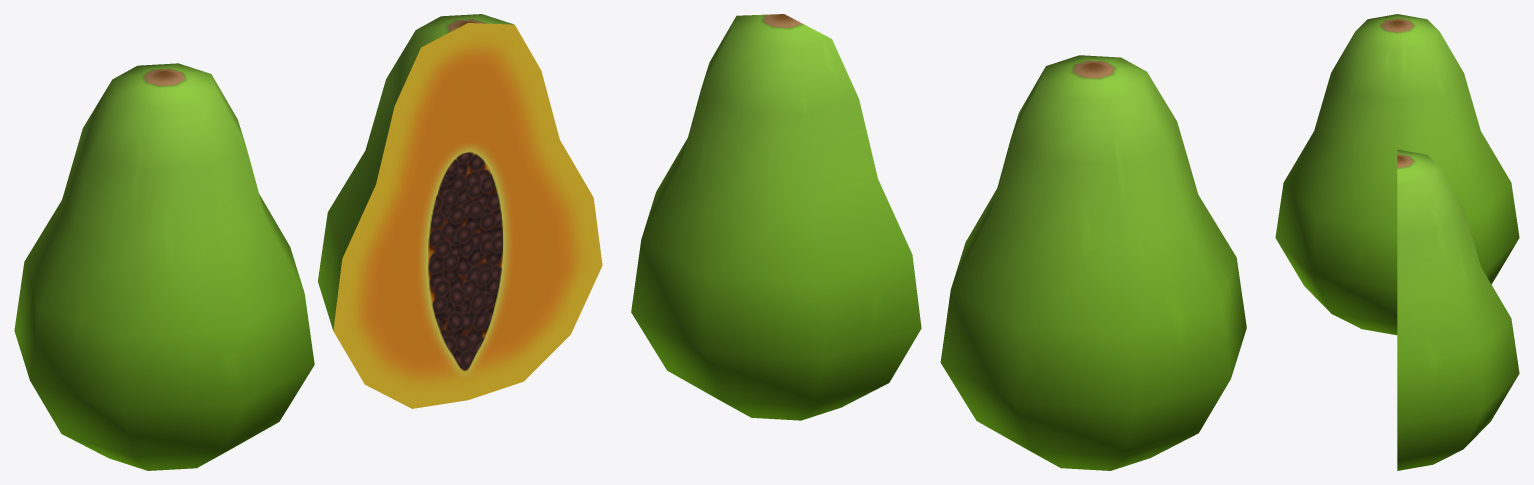
Rendered from papaya.fbx.
3 renders of one model, left to right at view 1: azimuth 30°, elevation 25°; view 2: azimuth 150°, elevation 25°; view 3: azimuth 270°, elevation 25°, orthographic. The views are drawn at different scales.
Visible parts, largest first — view 1: papaya_mesh, papaya_half_mesh; view 2: papaya_mesh, papaya_half_mesh; view 3: papaya_mesh, papaya_half_mesh.
Part boxes in pixels (x1,y1,x2,y2): papaya_mesh: (14, 63, 314, 470); papaya_half_mesh: (318, 14, 602, 408); papaya_mesh: (940, 55, 1246, 470); papaya_half_mesh: (631, 14, 921, 420); papaya_mesh: (1275, 14, 1519, 335); papaya_half_mesh: (1397, 149, 1519, 470).
Size of the model in its own units: 1.89 by 1.27 by 0.8875.
